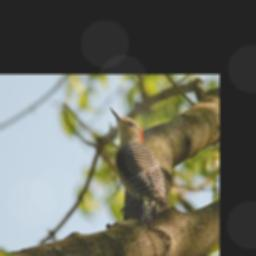Woodpecker: (108, 106, 165, 229)
